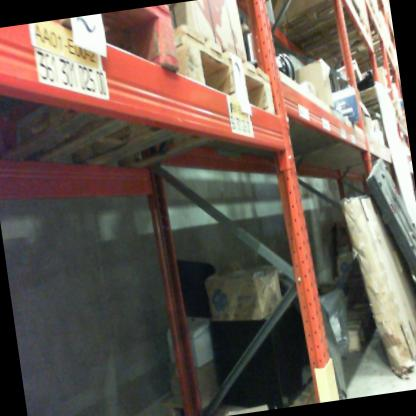pallet: (17, 11, 282, 186), (0, 4, 197, 188), (159, 362, 327, 416), (362, 153, 416, 318), (272, 0, 372, 75), (329, 65, 402, 150), (317, 290, 386, 355), (363, 0, 399, 85)
